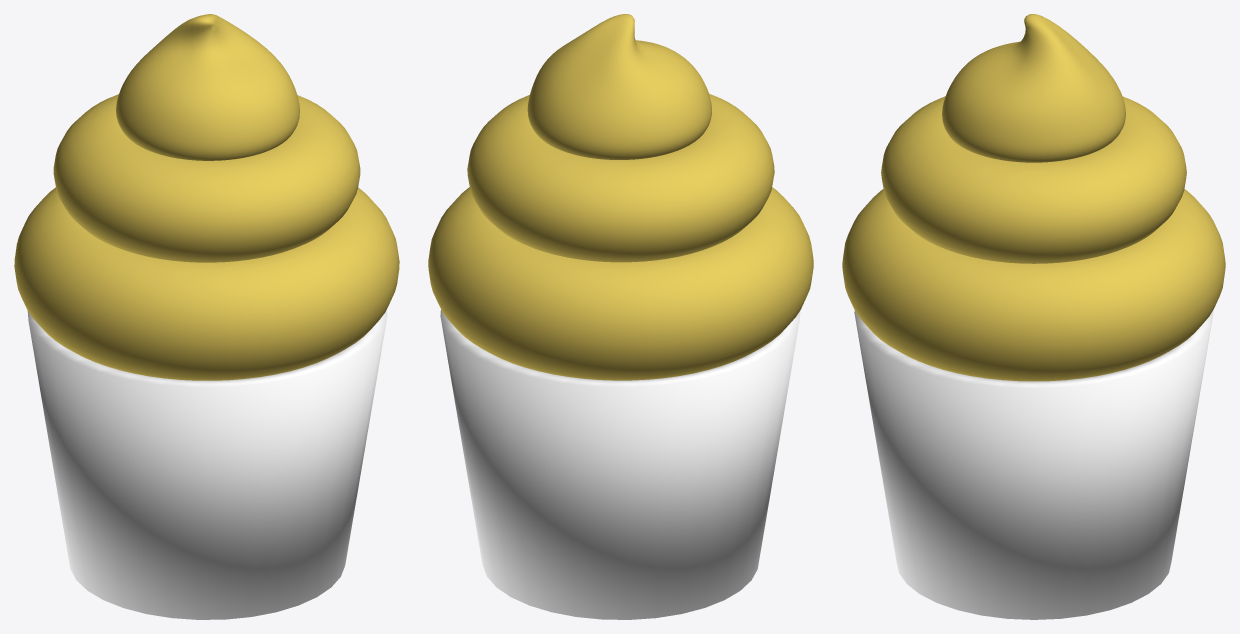
Rendered from mango_excellent.glb.
3 views of the same model, side by side, from view 1: azimuth 30°, elevation 25°; view 2: azimuth 150°, elevation 25°; view 3: azimuth 270°, elevation 25° (orthographic).
Visible parts, largest first — view 1: 圓柱體, 環體, 環體.001, 球體; view 2: 圓柱體, 環體, 環體.001, 球體; view 3: 圓柱體, 環體, 環體.001, 球體.
Part boxes in pixels (bbox=[...]): 圓柱體: bbox=[27, 309, 387, 619]; 環體: bbox=[14, 187, 399, 380]; 環體.001: bbox=[53, 94, 360, 262]; 球體: bbox=[116, 14, 299, 160]; 圓柱體: bbox=[440, 309, 800, 619]; 環體: bbox=[428, 187, 813, 380]; 環體.001: bbox=[467, 93, 774, 262]; 球體: bbox=[527, 14, 711, 159]; 圓柱體: bbox=[854, 310, 1213, 619]; 環體: bbox=[842, 189, 1225, 381]; 環體.001: bbox=[881, 96, 1186, 263]; 球體: bbox=[942, 14, 1125, 162].
Bounding box in the file's own units: 2.94 × 4.59 × 2.94.
2 materials, 1 textured.
